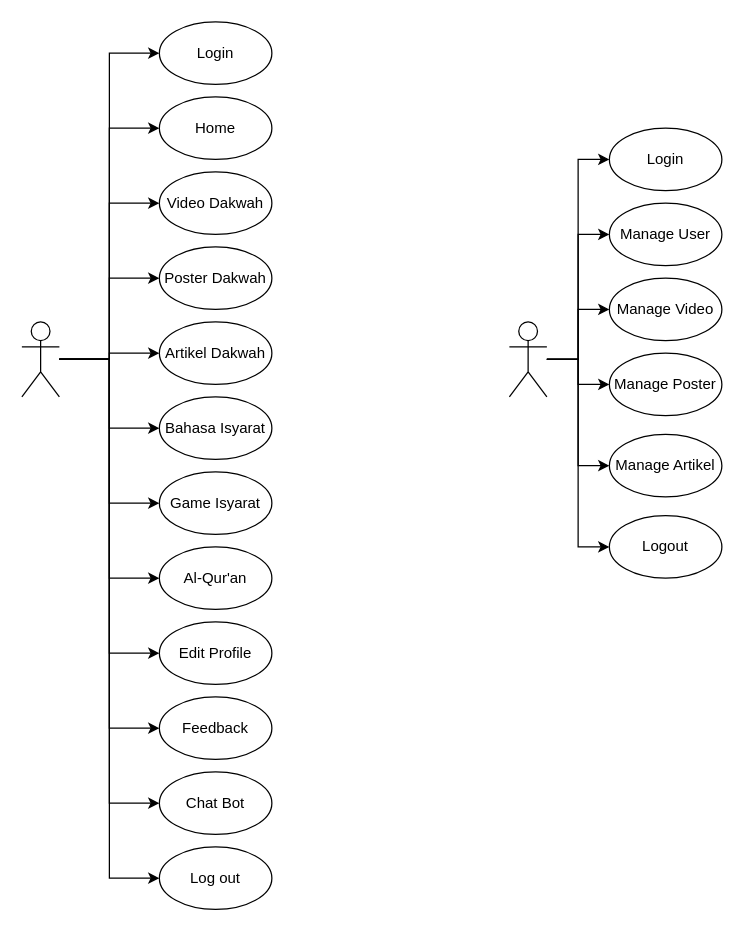
The diagram is 744 pixels wide and 931 high, and some of its shapes have lost their labels. The shapes that lost their labels are listed below. From the top down, each one's box as (x1, y1, x2, y2) in pixels, then its label:
(21, 321, 59, 397): User
(508, 321, 547, 397): Admin
